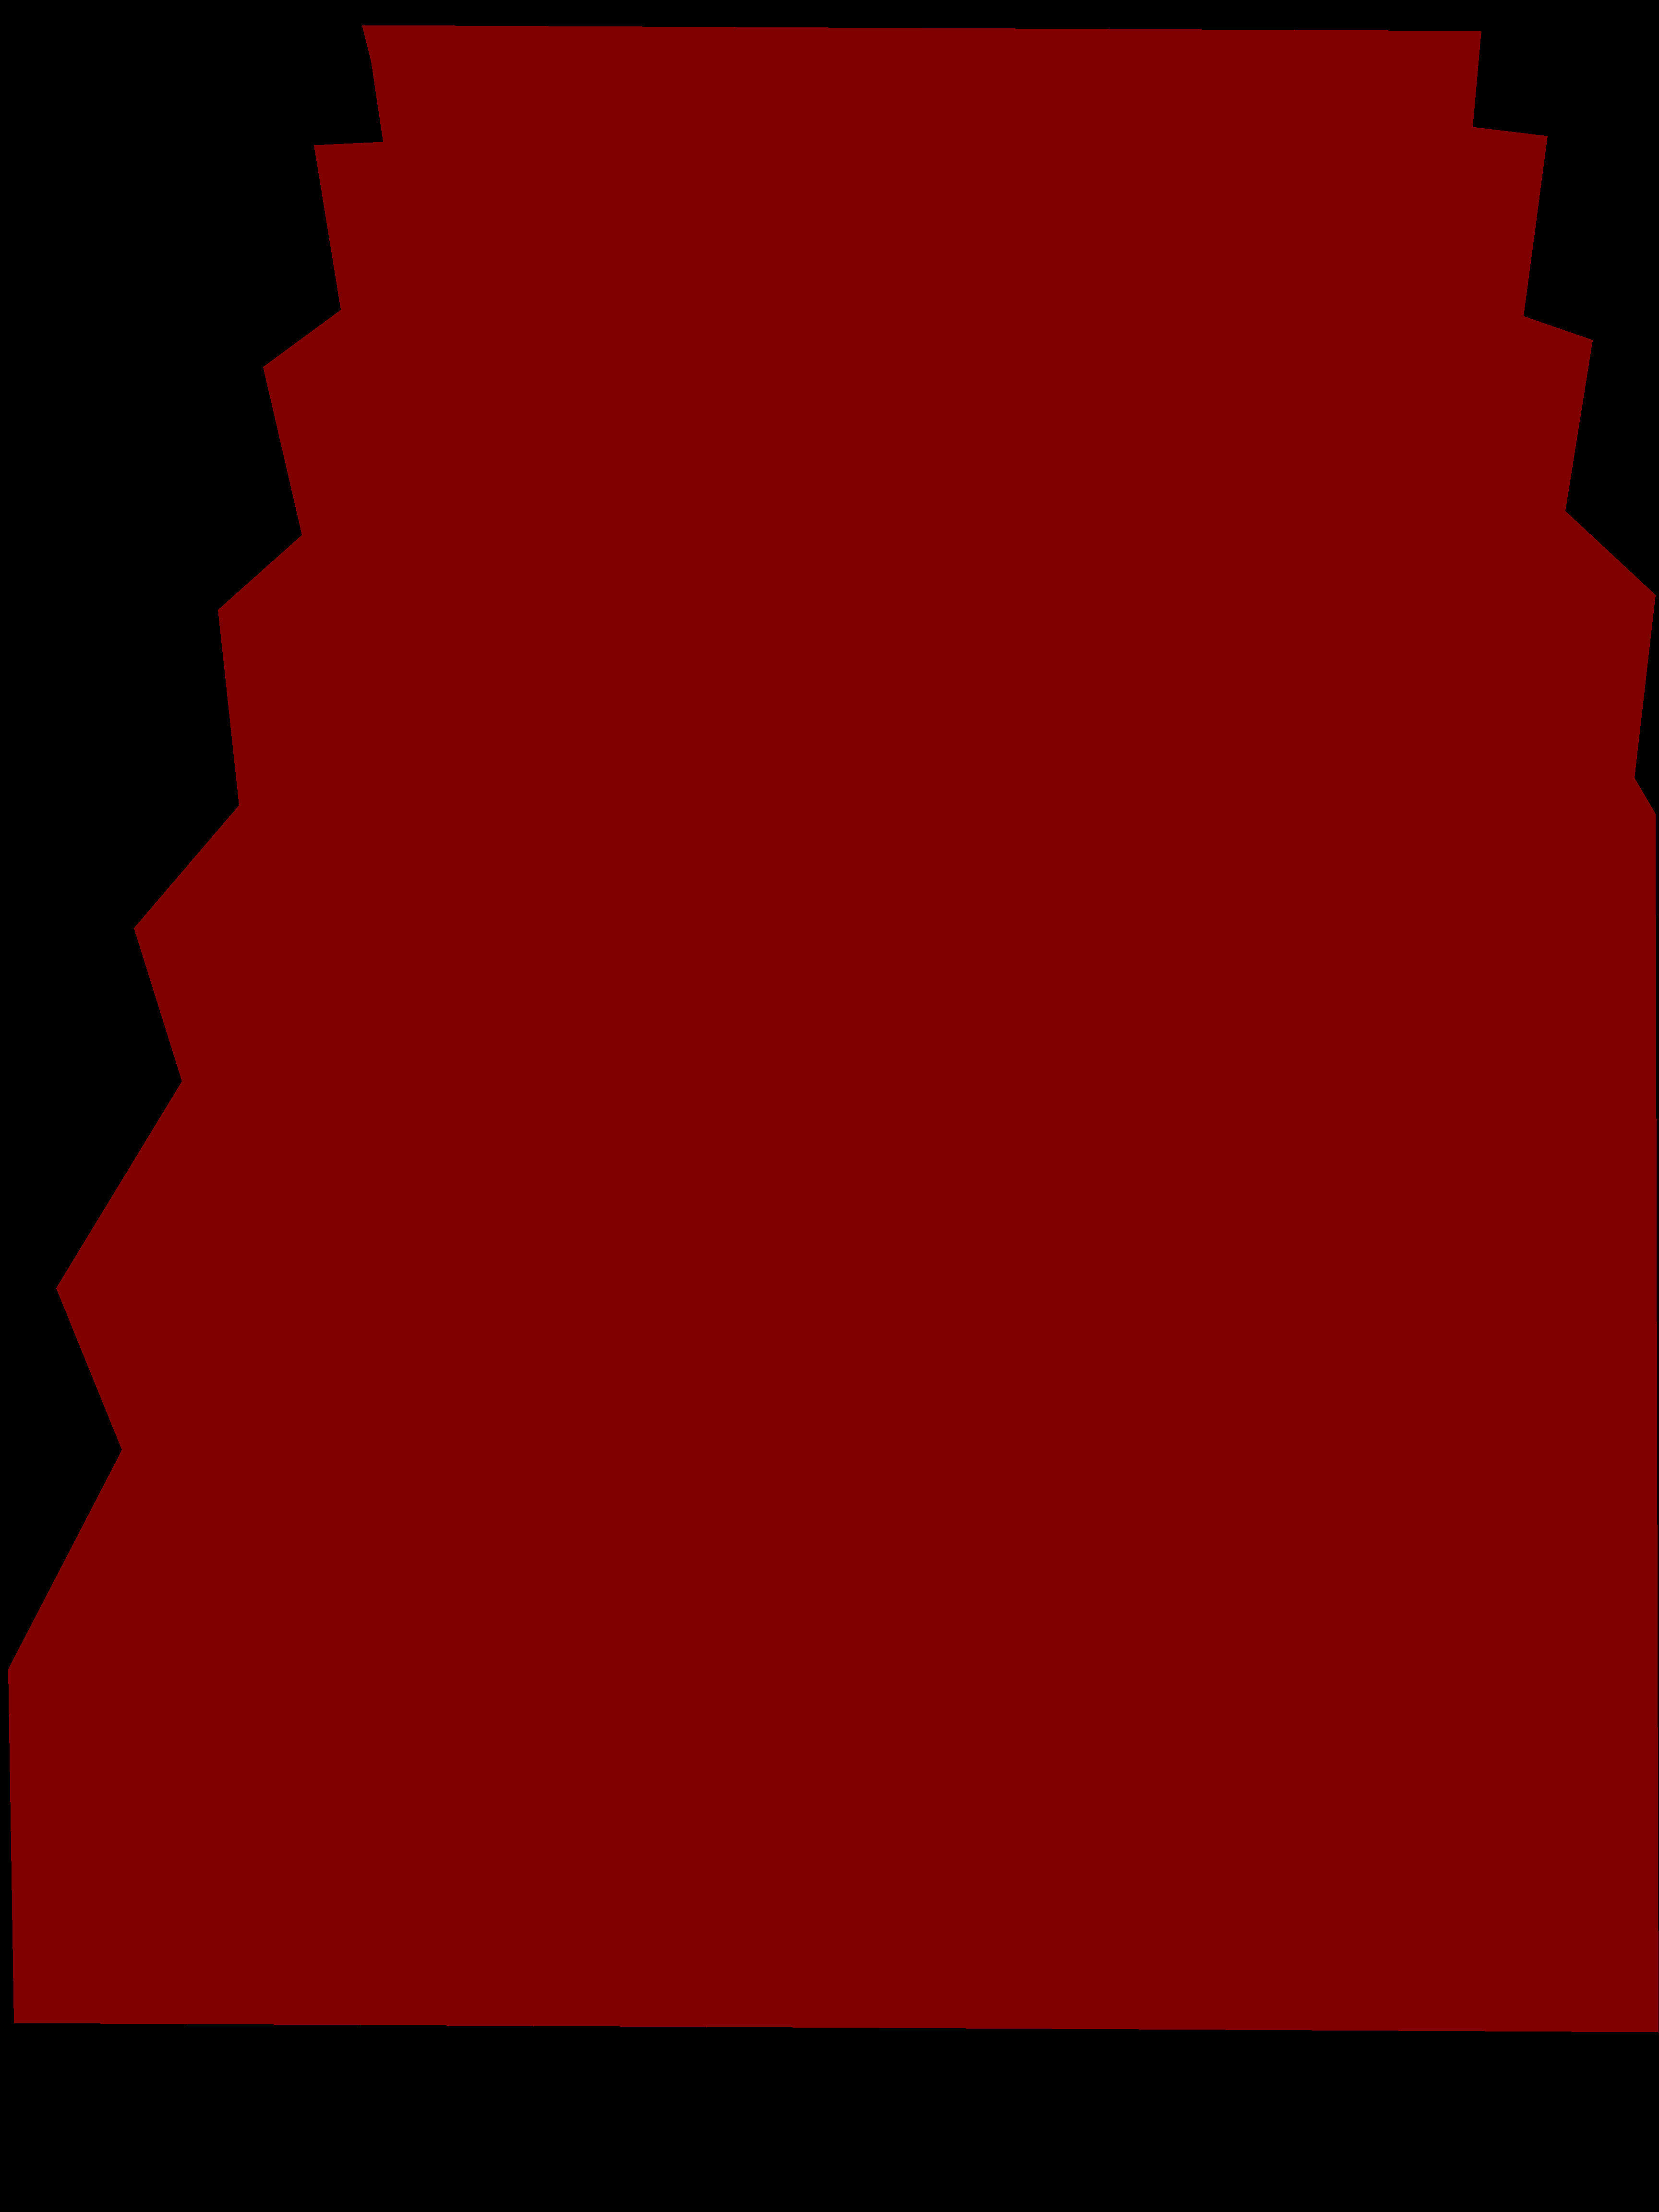stair: (9, 24, 1657, 2033)
